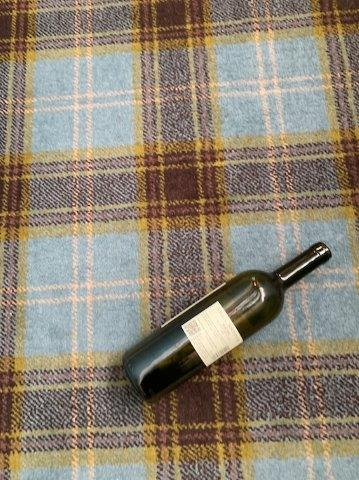botolkaca: (121, 242, 335, 403)
